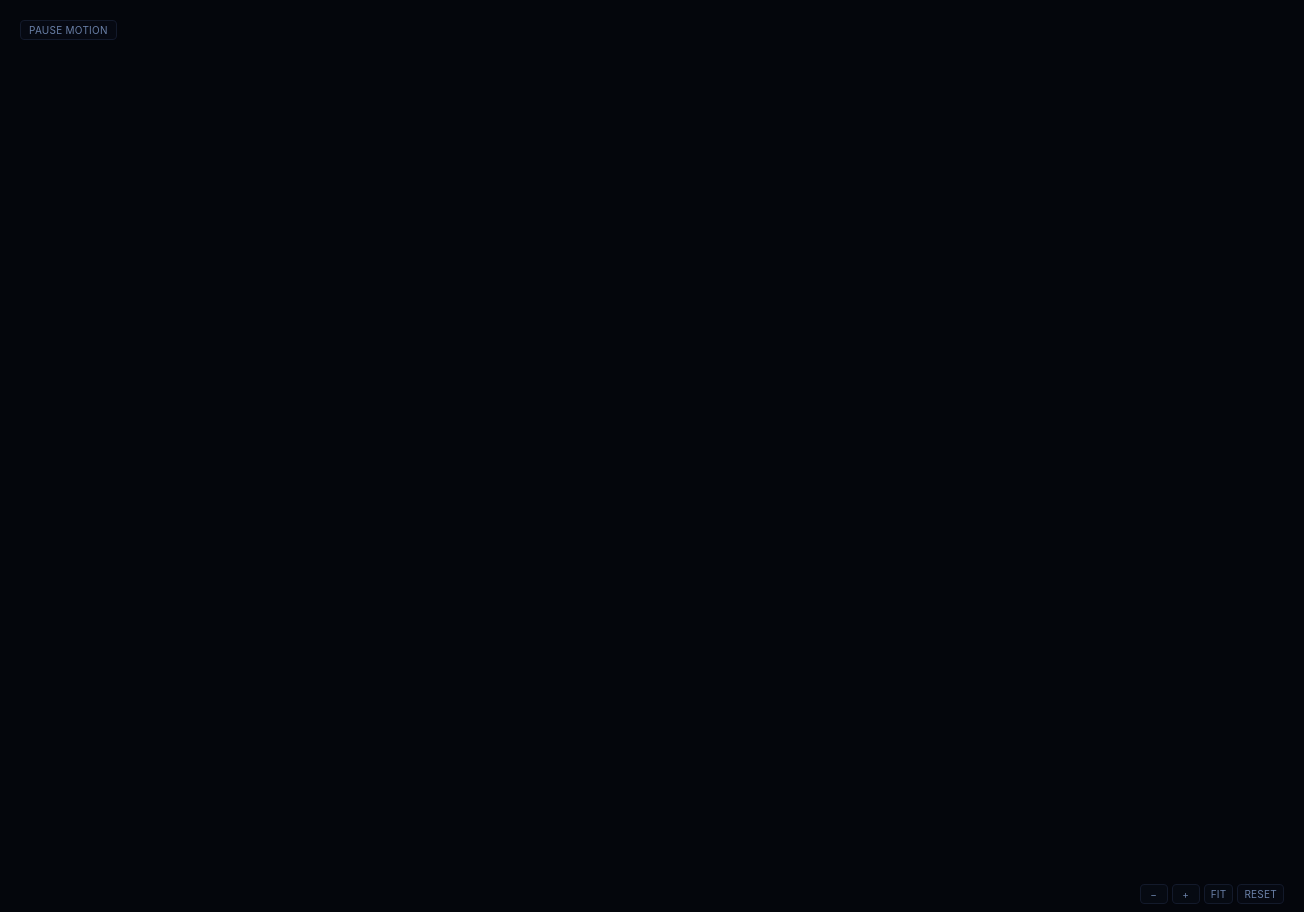
the pause control (WCAG 2.2.2) › says MOTION PAUSED, out loud, once it is pressed
Click the button with test id "scene-motion-pause". click: (68, 30)
box: [20,20,117,40]
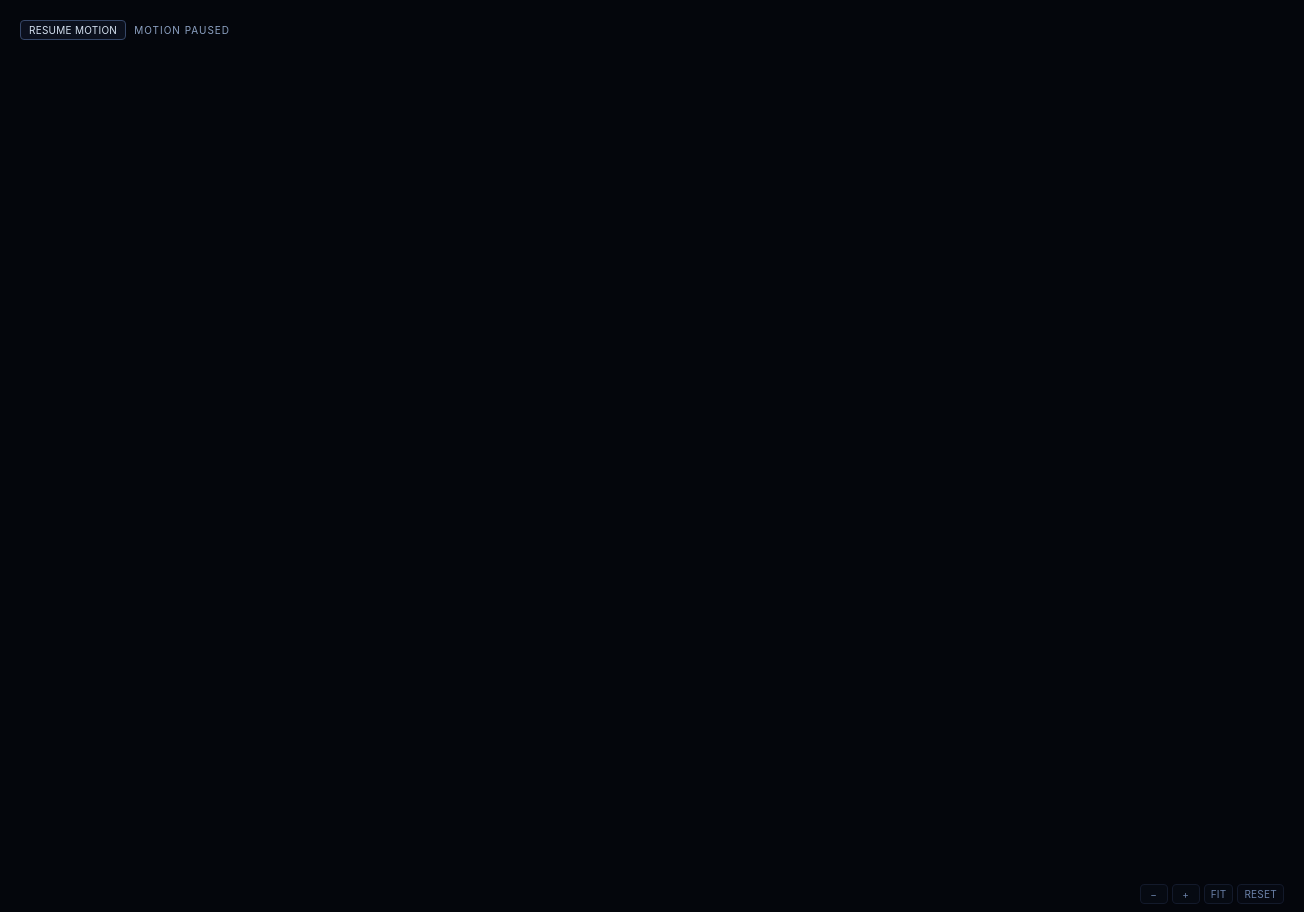
Expected: the message with test id "scene-motion-state" reads "Motion paused", [134,24,230,36]
Expected: the button with test id "scene-motion-pause" shows "Resume", [20,20,126,40]
